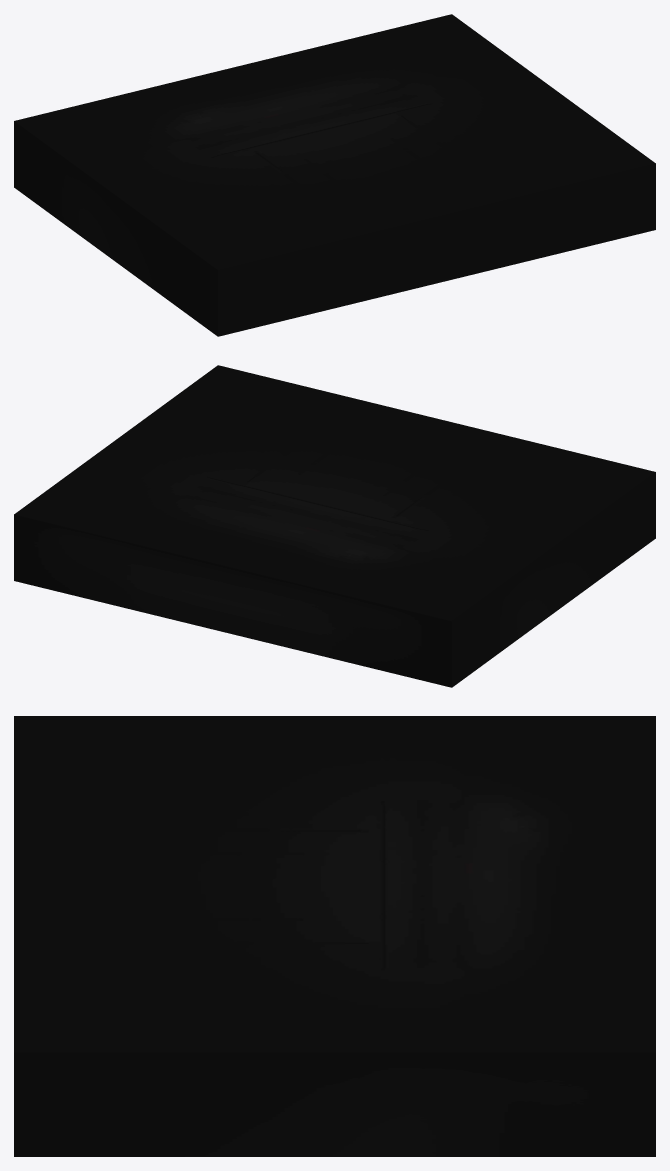
3 renders of one model, top to bottom at view 1: azimuth 30°, elevation 25°; view 2: azimuth 150°, elevation 25°; view 3: azimuth 270°, elevation 25°, orthographic. The views are drawn at different scales.
Visible parts, largest first — view 1: house; view 2: house; view 3: house.
Part boxes in pixels (x1=…): house: x1=14, y1=14, x2=655, y2=336; house: x1=14, y1=365, x2=655, y2=687; house: x1=14, y1=716, x2=655, y2=1156.
Size of the model in its own units: 73.99 by 10.73 by 59.71.
Materials: 24 (24 with a texture image).
